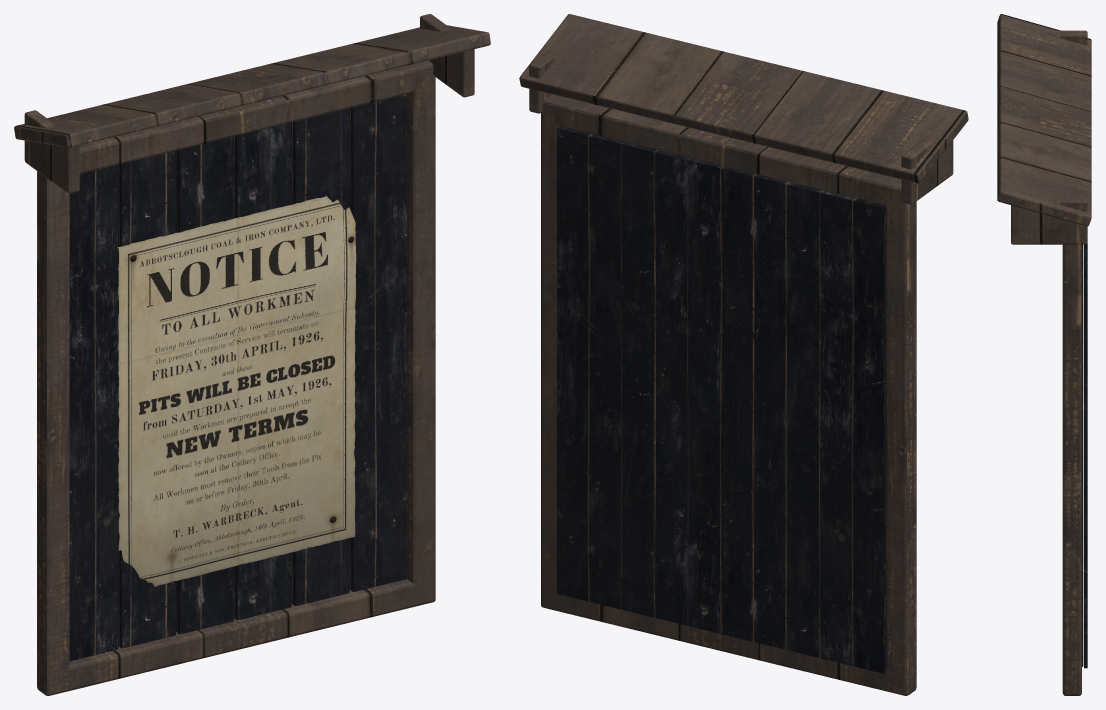
File: notice-on-board.glb
3 renders of one model, left to right at view 1: azimuth 30°, elevation 25°; view 2: azimuth 150°, elevation 25°; view 3: azimuth 270°, elevation 25°, orthographic. The views are drawn at different scales.
Parts seen in each view (by area): view 1: notice-board, notice; view 2: notice-board; view 3: notice-board.
Boxes of the visible parts, x1,y1,x2,y2 form: notice-board: (14,14,490,695); notice: (117,195,356,586); notice-board: (519,14,968,695); notice-board: (997,14,1091,695).
Bounding box in the file's own units: 0.88 × 1.18 × 0.1961.
Materials: 4 (4 with a texture image).
